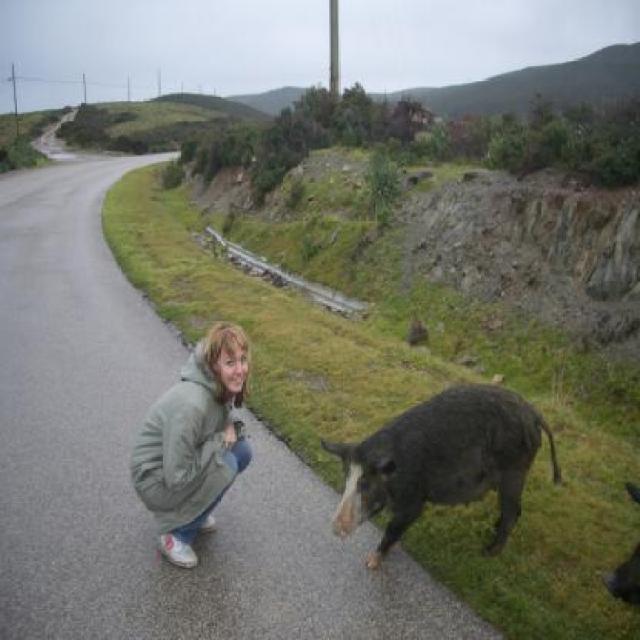pig: (318, 382, 562, 570), (602, 478, 639, 612)
